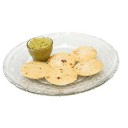idly: (20, 61, 51, 80), (46, 69, 77, 85), (76, 61, 104, 75), (73, 47, 98, 62), (48, 53, 73, 67)
